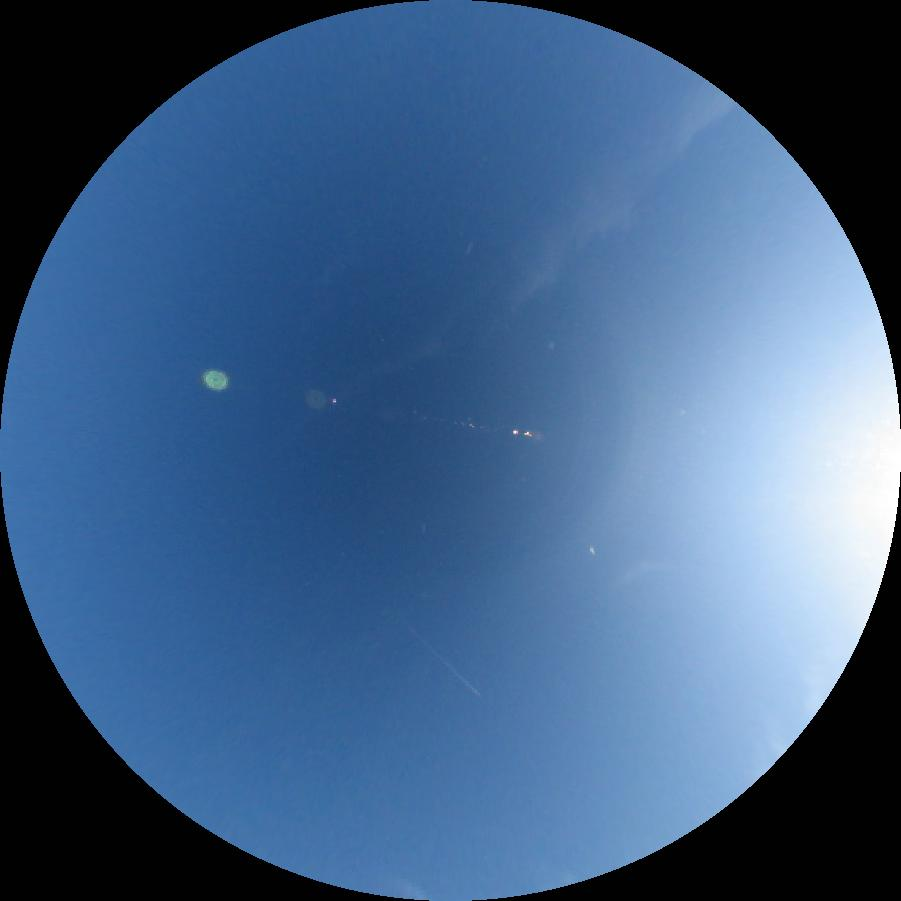contrail young: (414, 629, 482, 697)
sun: (868, 429, 900, 541)
